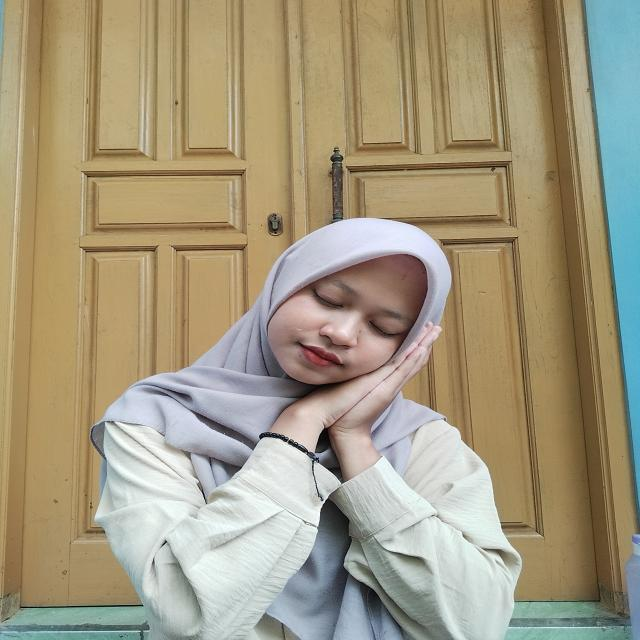tidur: (256, 324, 438, 464)
